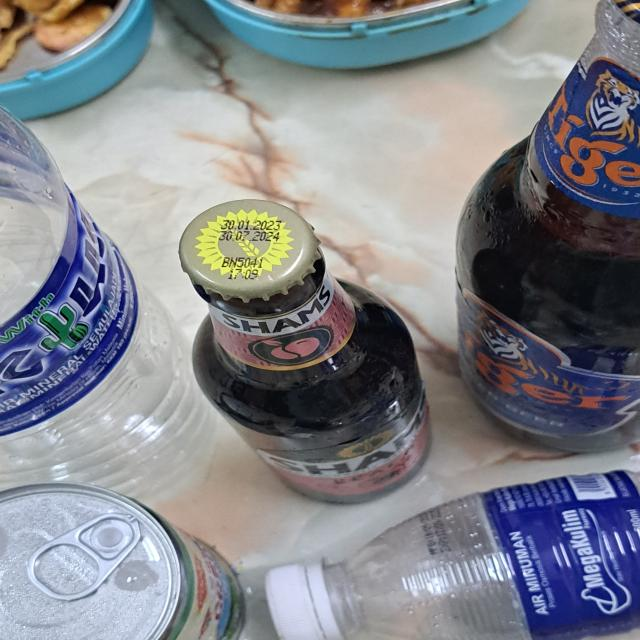can: (0, 483, 247, 640)
glass bottle: (453, 0, 640, 455), (178, 200, 438, 508)
plastic bottle: (0, 111, 215, 514), (316, 469, 640, 640)
plastic bottle cap: (266, 558, 328, 640)
pop tab: (26, 515, 145, 603)
